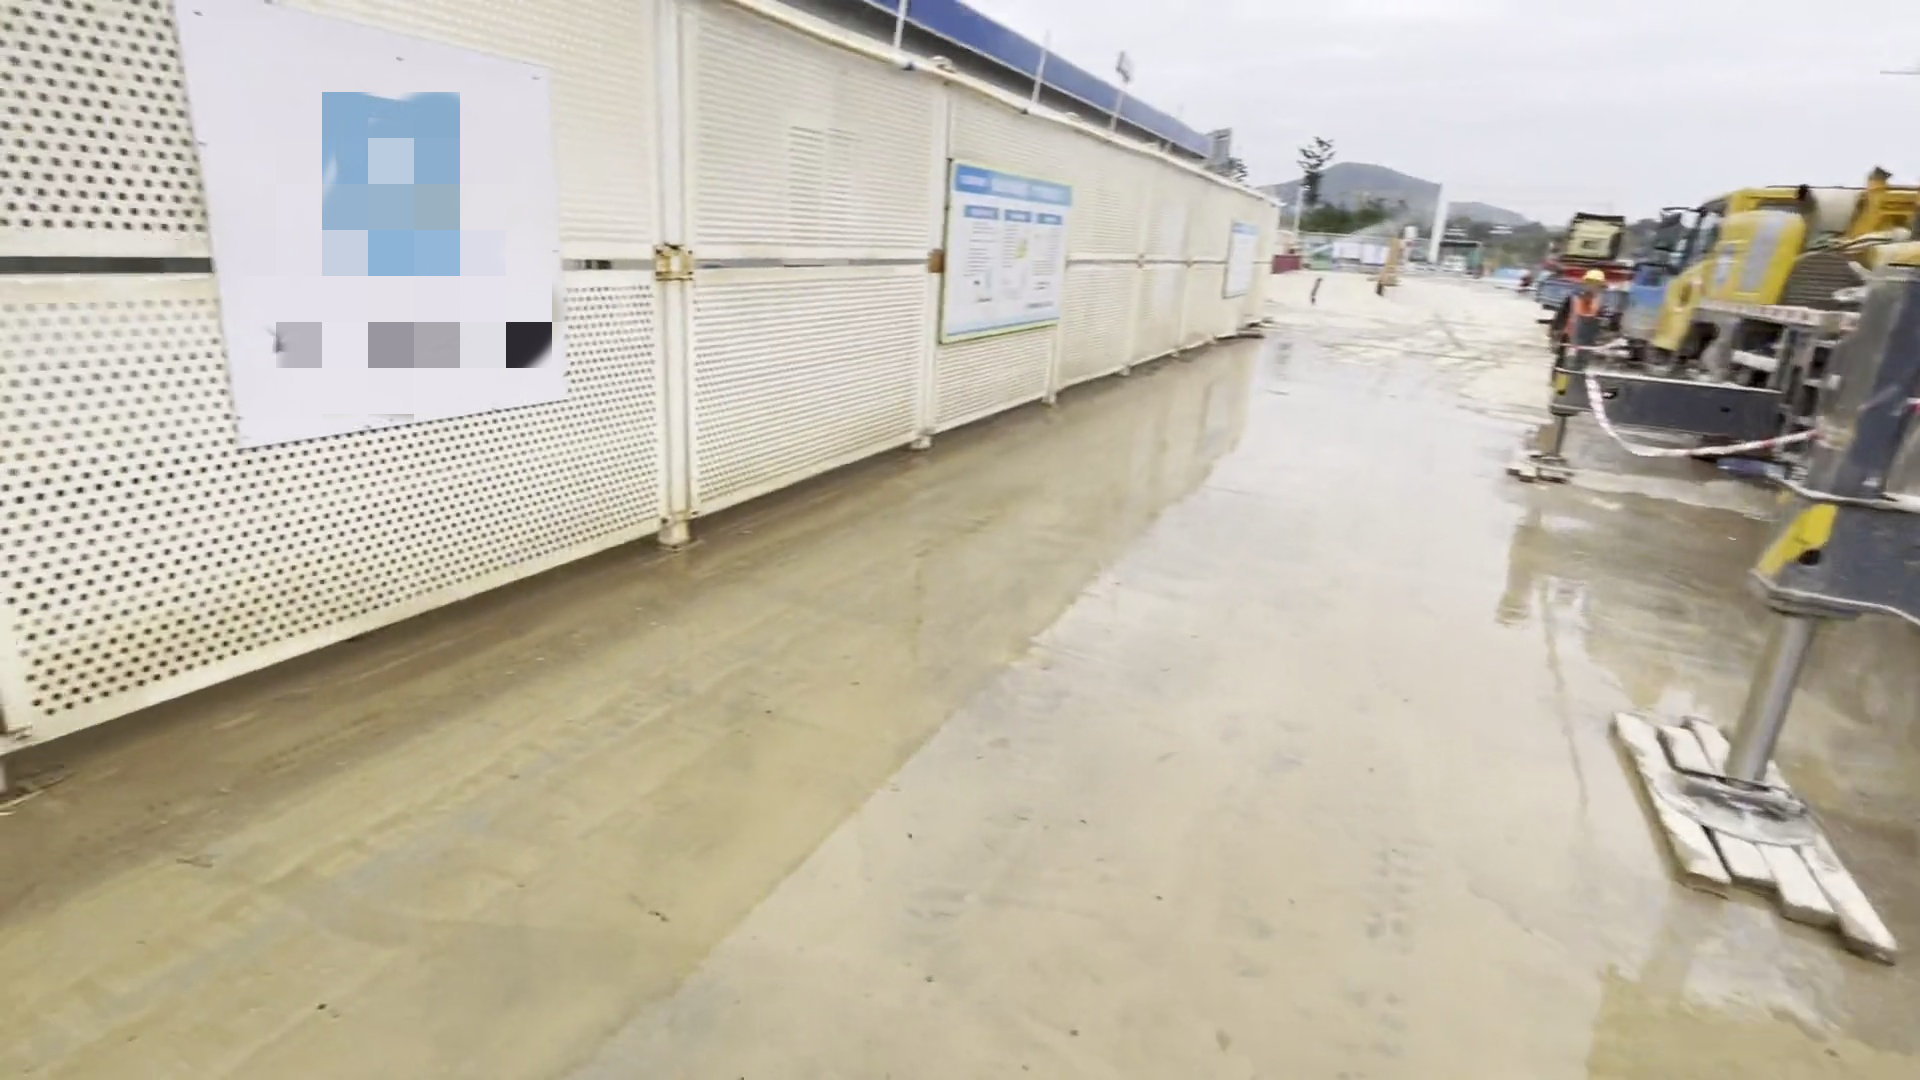slogan: (924, 146, 1075, 357)
